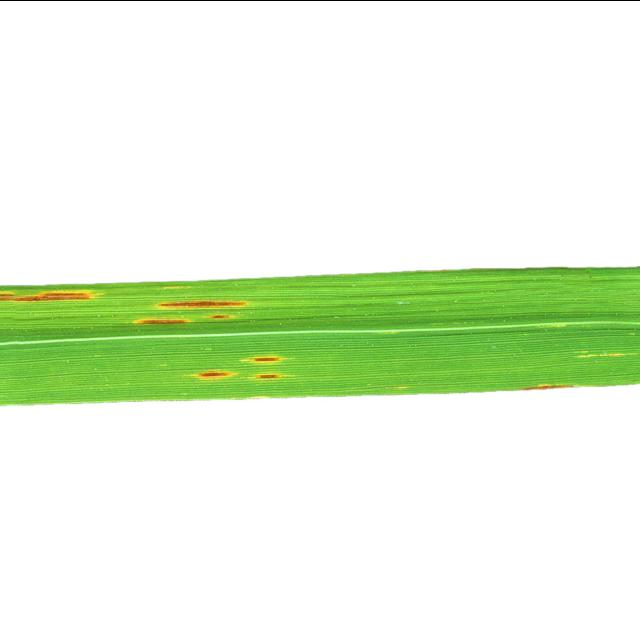Narrow brown: (0, 236, 640, 466)
